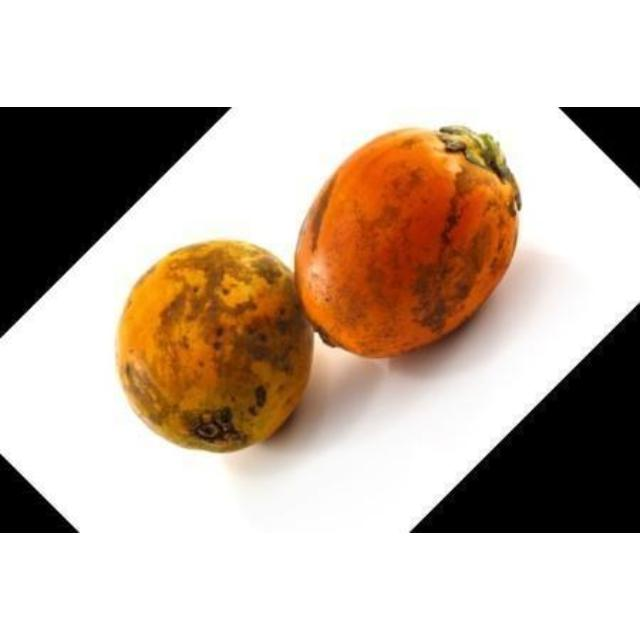good: (296, 127, 521, 360), (115, 241, 316, 455)
